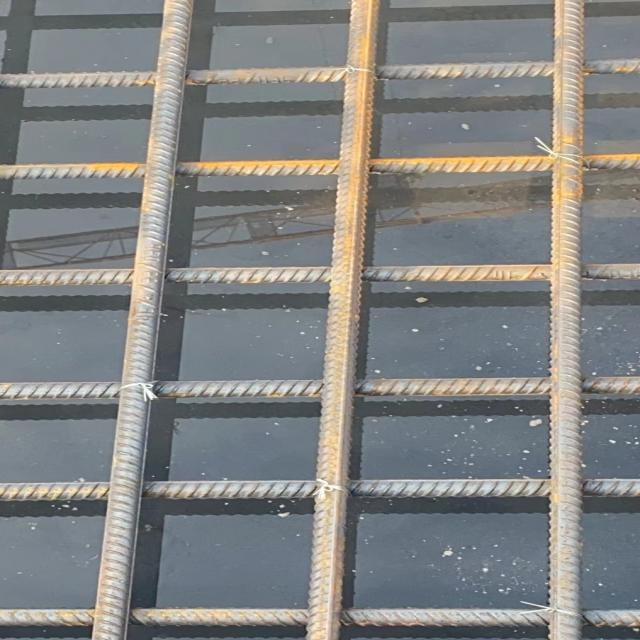ribbed bar: (87, 0, 194, 639), (304, 0, 382, 639), (547, 0, 586, 639), (0, 57, 639, 89), (0, 155, 639, 181), (0, 262, 639, 286), (0, 376, 639, 400), (0, 479, 639, 501), (0, 608, 639, 628)
